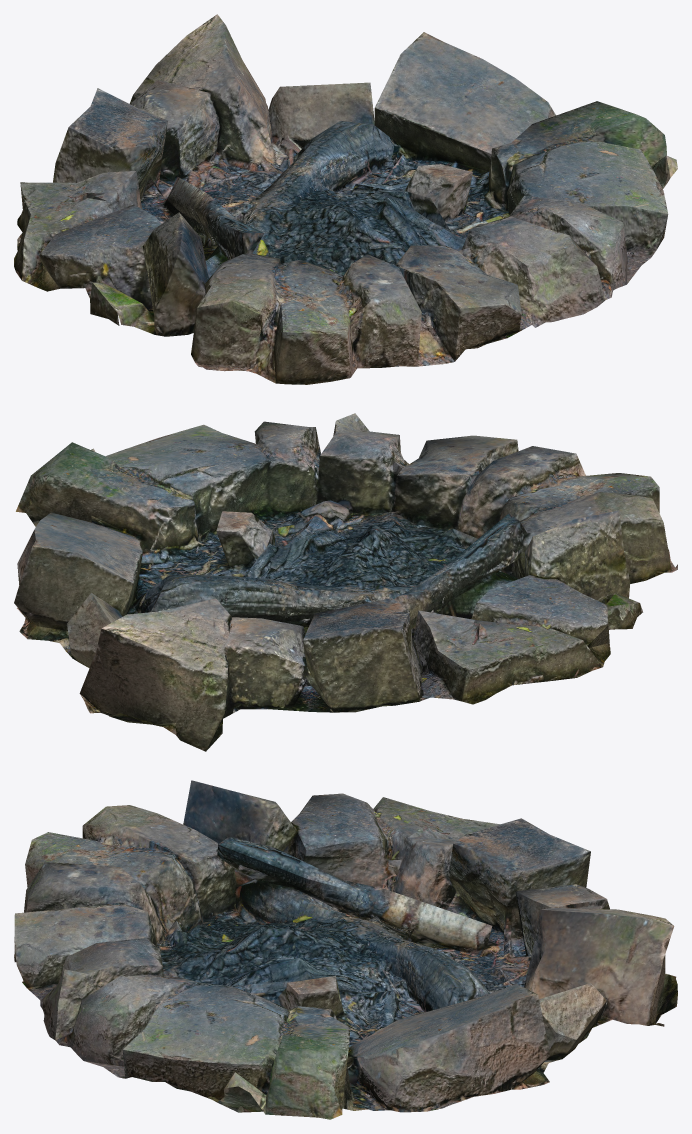
File: Fire Pit.fbx
3 views of the same model, one above another, from view 1: azimuth 30°, elevation 25°; view 2: azimuth 150°, elevation 25°; view 3: azimuth 270°, elevation 25° (orthographic).
Visible parts, largest first — view 1: Fire Pit; view 2: Fire Pit; view 3: Fire Pit.
Boxes of the visible parts, x1,y1,x2,y2 form: Fire Pit: [14, 14, 677, 384]; Fire Pit: [14, 413, 677, 751]; Fire Pit: [14, 780, 677, 1119].
Size of the model in its own units: 91.77 by 16.84 by 87.29.
